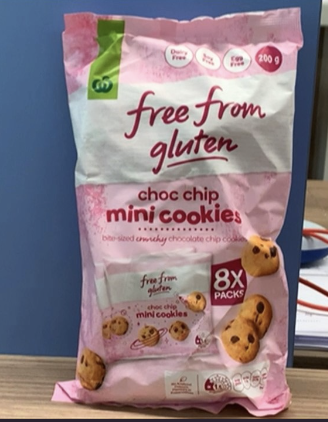cookies_200g-299g: (79, 76, 286, 405)
